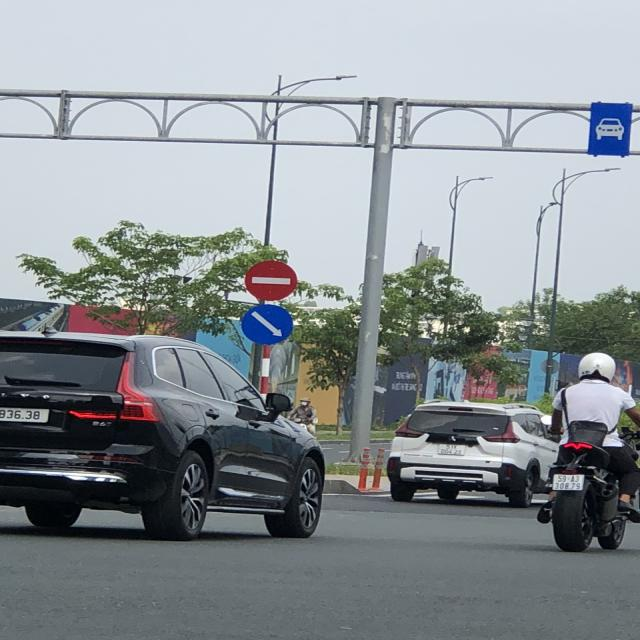Bien bao cam di nguoc chieu: (240, 257, 304, 304)
